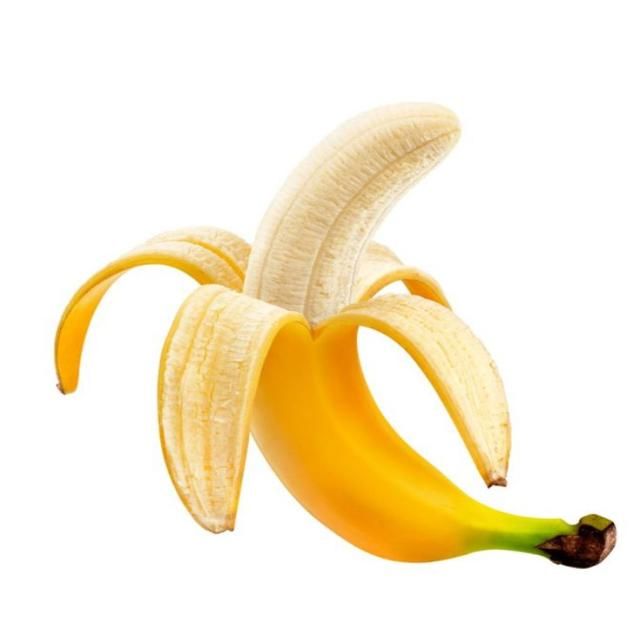banana: (56, 104, 615, 566), (244, 104, 459, 324), (159, 285, 305, 532), (55, 228, 249, 393), (351, 242, 450, 306)
